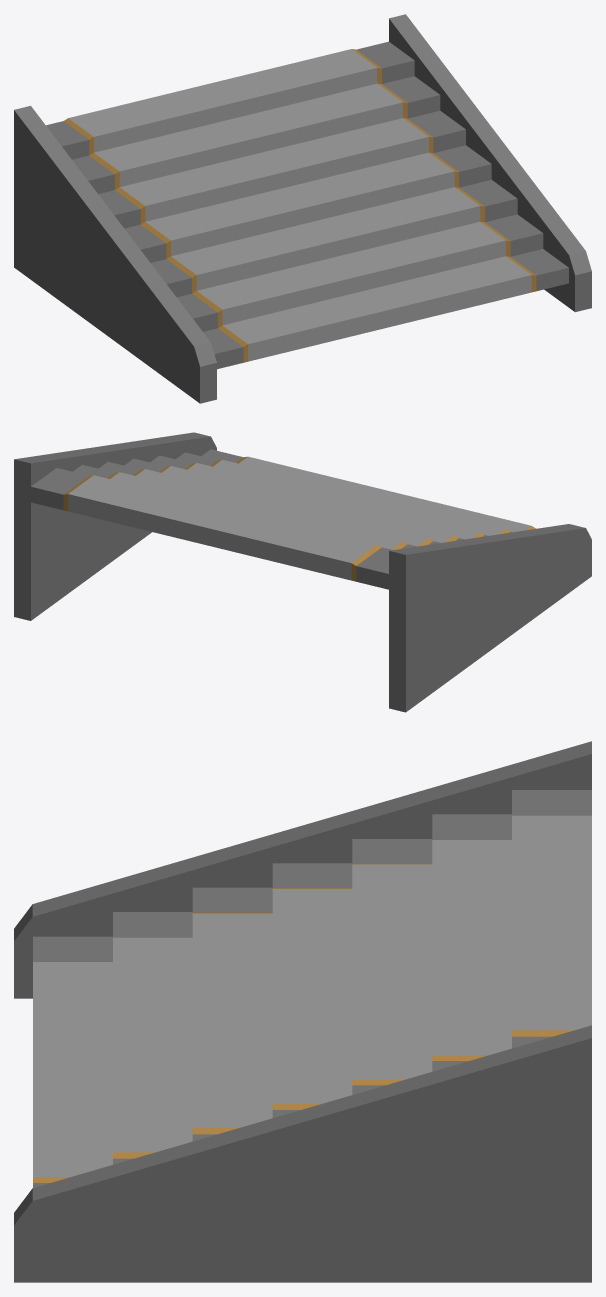
The picture shows the model from 3 angles, top to bottom: view 1: azimuth 30°, elevation 25°; view 2: azimuth 150°, elevation 25°; view 3: azimuth 270°, elevation 25°; orthographic projection. The views are drawn at different scales.
Parts seen in each view (by area): view 1: Staircase; view 2: Staircase; view 3: Staircase.
Boxes of the visible parts, x1,y1,x2,y2 form: Staircase: (14,14,591,403); Staircase: (14,432,591,712); Staircase: (14,741,591,1282).
Size of the model in its own units: 3.78 by 1.45 by 3.11.
